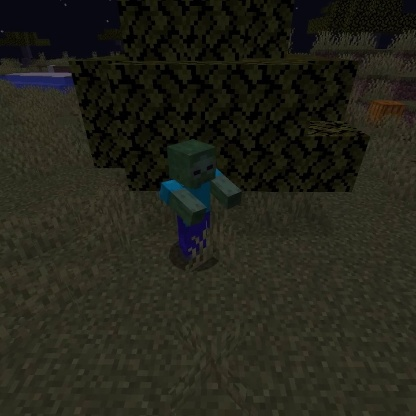zombie: (155, 136, 246, 268)
